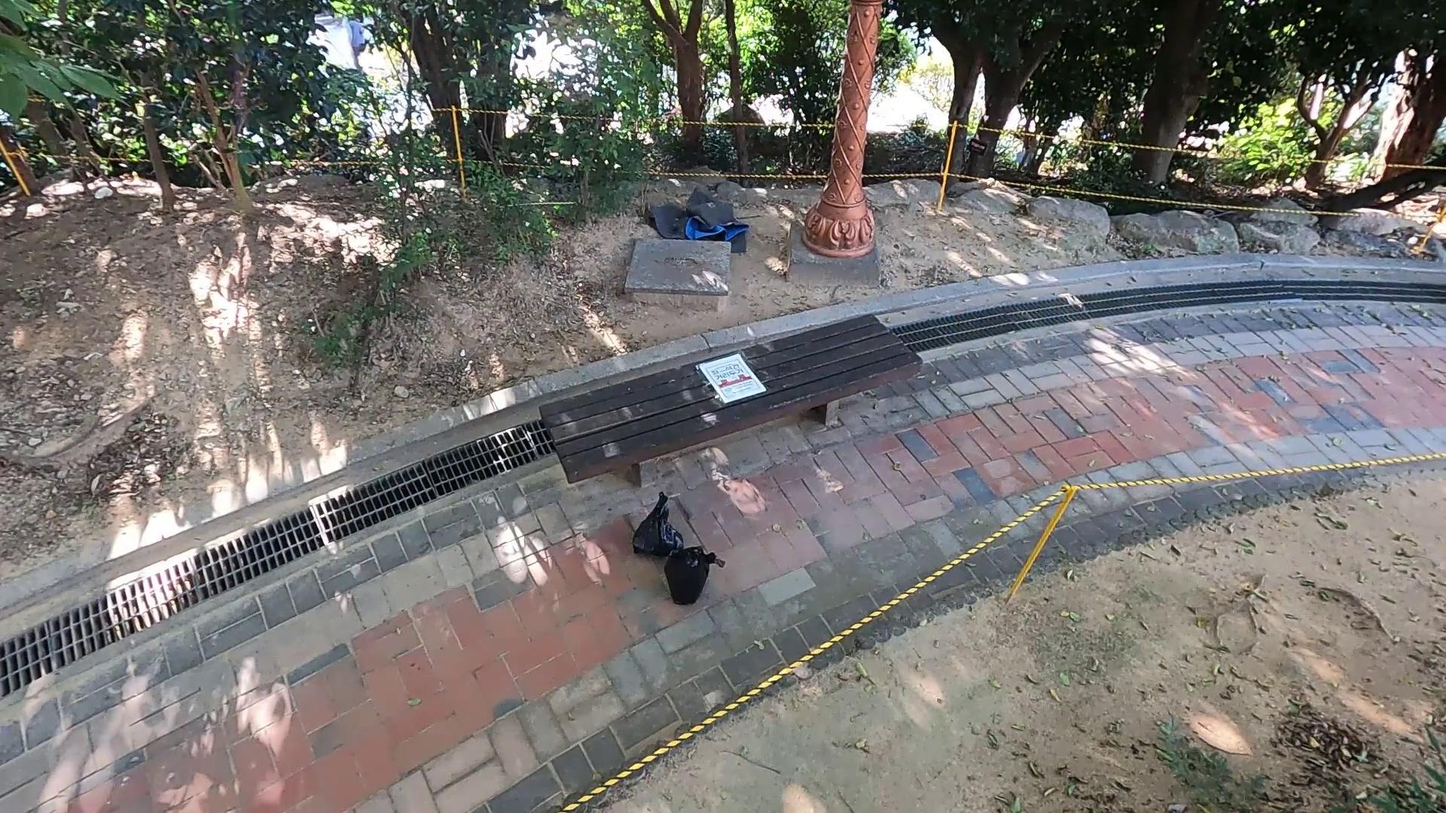trash: (646, 185, 748, 257), (661, 542, 725, 605), (631, 492, 684, 558)
